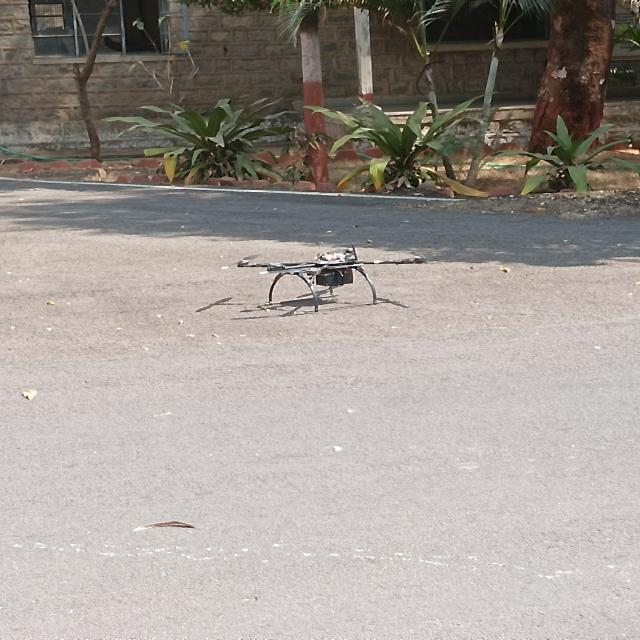drone: (215, 232, 459, 321)
